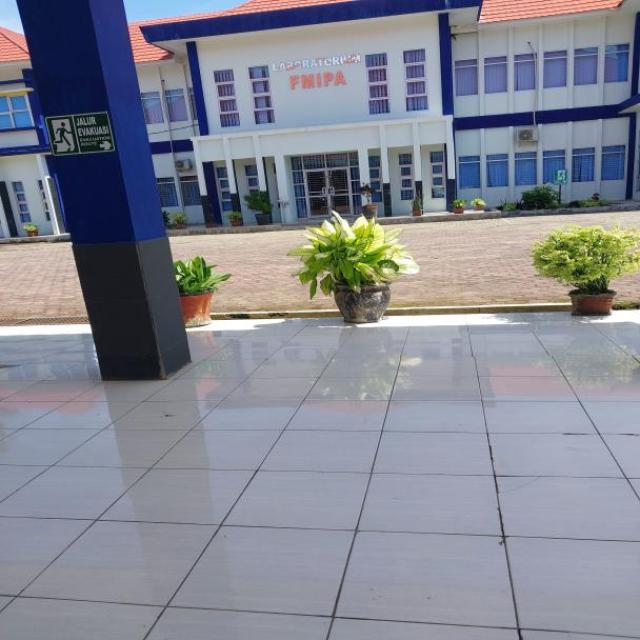plant ahead at: (304, 209, 420, 326), (532, 222, 640, 324)
